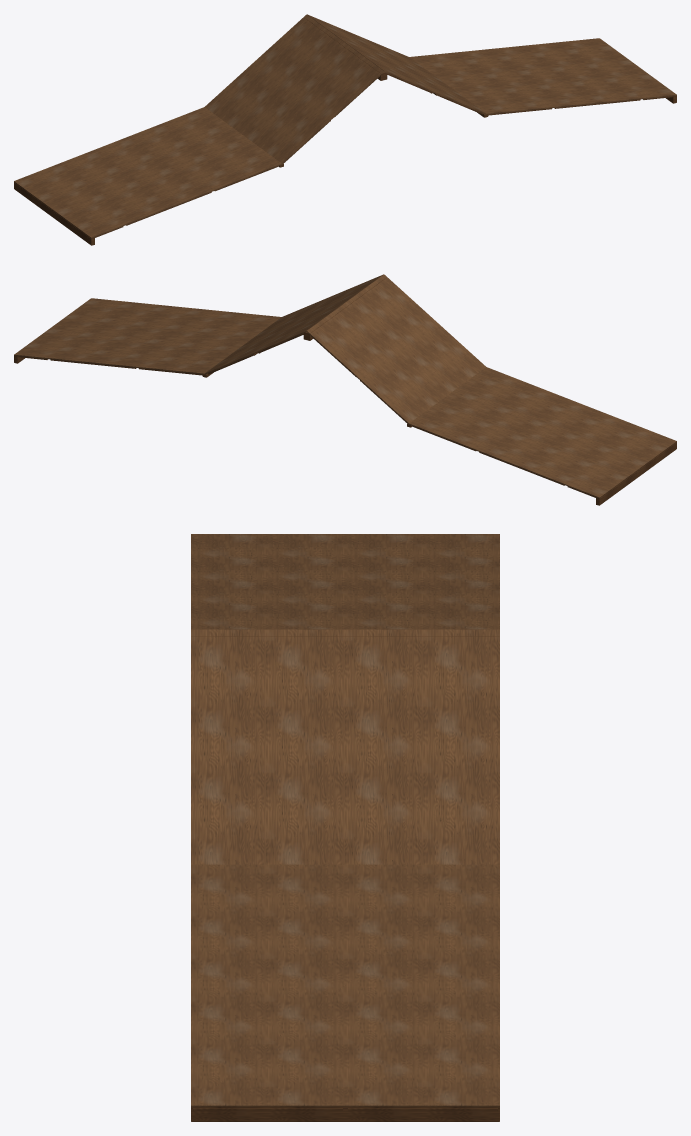
The model's file is settlement_townhall_ceiling_bay_4p2.gltf.
3 views of the same model, one above another, from view 1: azimuth 30°, elevation 25°; view 2: azimuth 150°, elevation 25°; view 3: azimuth 270°, elevation 25° (orthographic). The views are drawn at different scales.
Parts seen in each view (by area): view 1: settlement_townhall_ceiling_bay_4p2_LOD0; view 2: settlement_townhall_ceiling_bay_4p2_LOD0; view 3: settlement_townhall_ceiling_bay_4p2_LOD0.
Boxes of the visible parts, left/top/right/bottom form: settlement_townhall_ceiling_bay_4p2_LOD0: left=14, top=14, right=676, bottom=245; settlement_townhall_ceiling_bay_4p2_LOD0: left=14, top=274, right=676, bottom=505; settlement_townhall_ceiling_bay_4p2_LOD0: left=191, top=534, right=499, bottom=1121.
Size of what is drawn, in the model's own units: 17.21 by 2.9 by 3.93.
4 materials, 4 textured.
